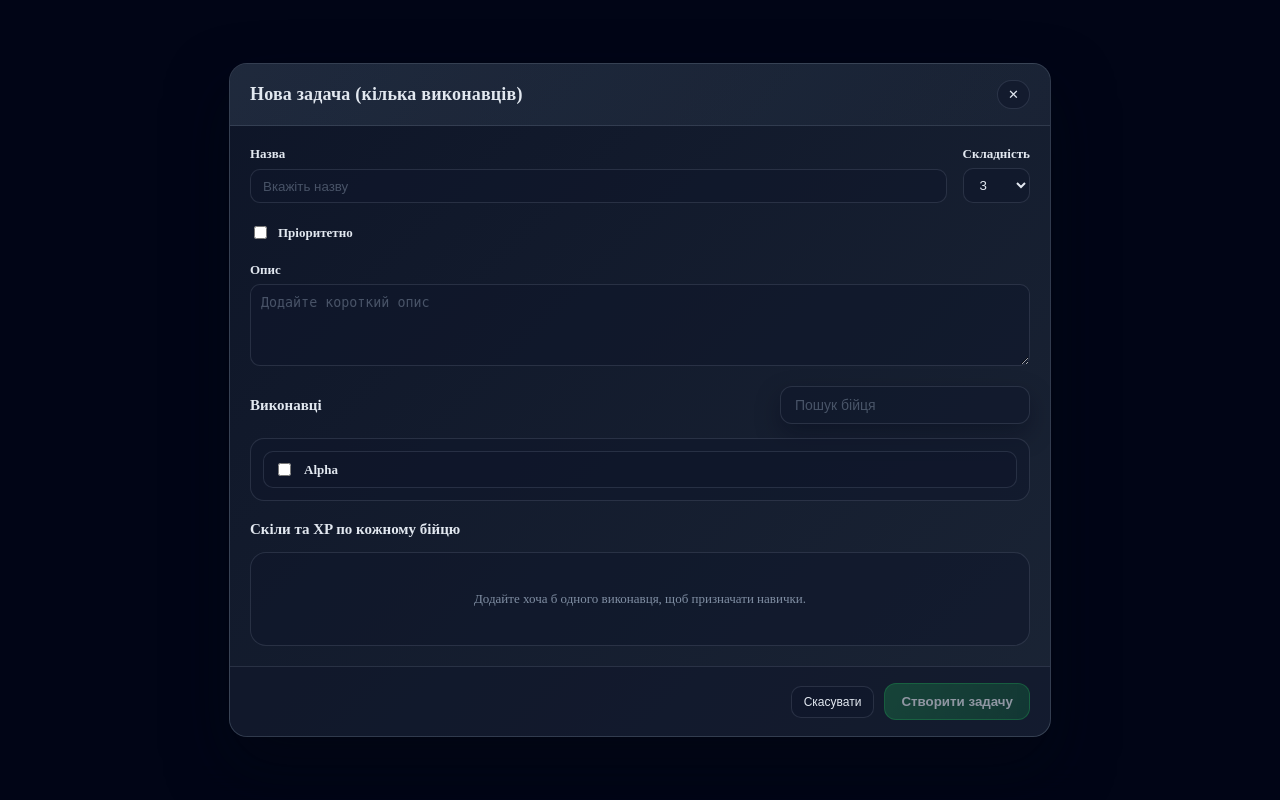
Test: MultiAssignTaskModal › validates assignee selection and submits composed payload
The width and height of the screenshot is (1280, 800).
Expected: the button "Створити задачу" is disabled, [884, 683, 1030, 720]
Type "Патрулювання території" into the field with placeholder "Вкажіть назву". click: [598, 186]
box: [250, 169, 947, 203]
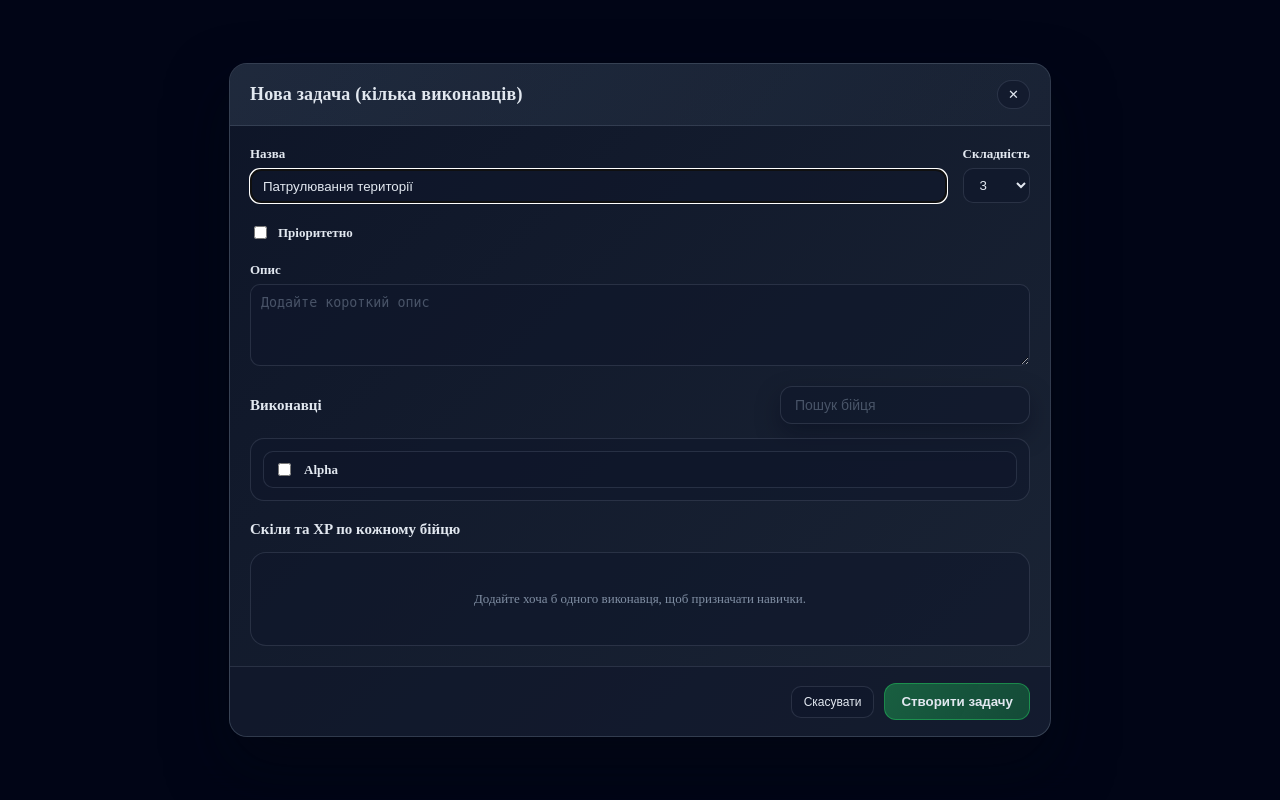
Expected: the button "Створити задачу" is enabled
Click the button "Створити задачу". click: [957, 702]
box: [884, 683, 1030, 720]
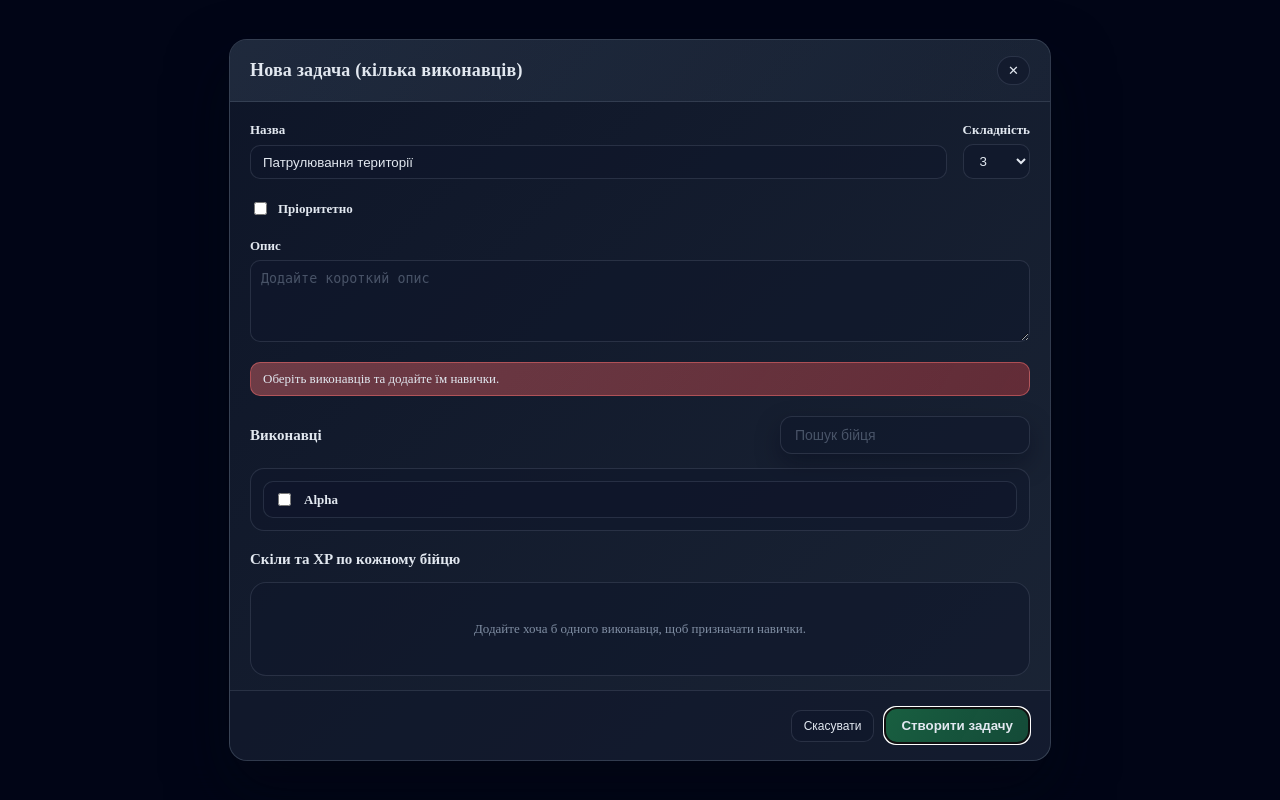
Expected: the text "Оберіть виконавців та додайте їм навички." is shown, [250, 362, 1030, 396]
Click the checkbox labelled "Alpha". click: [284, 500]
box: [278, 493, 291, 506]
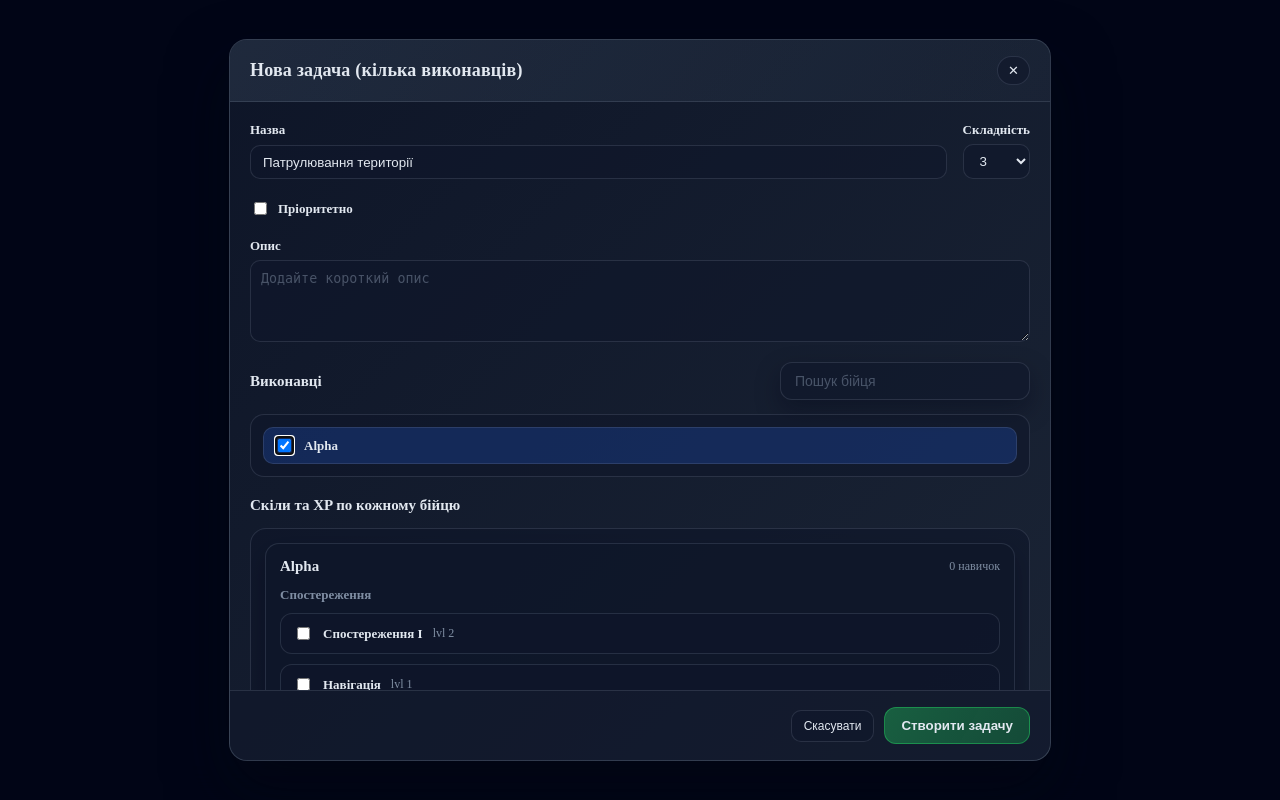
Expected: the checkbox named "Спостереження I" is shown
Click the checkbox named "Спостереження I". click: [304, 634]
box: [297, 627, 310, 640]
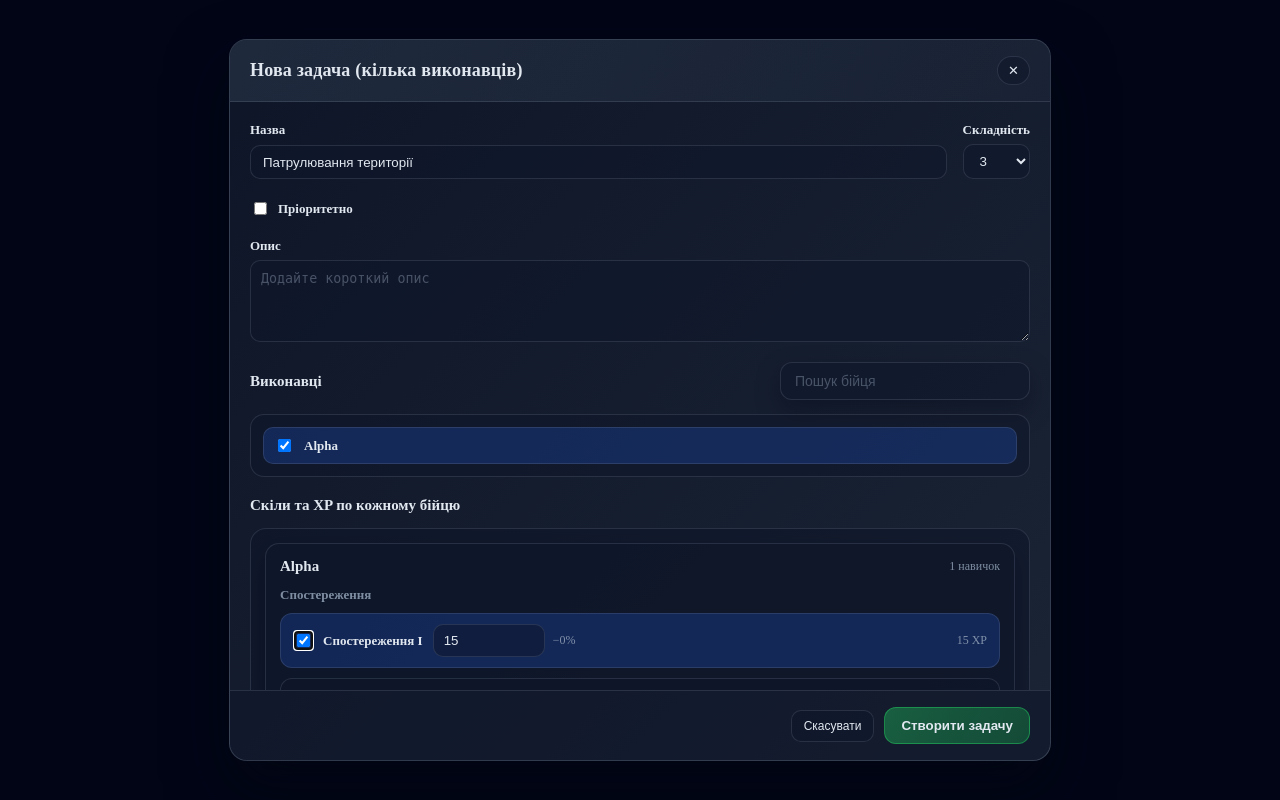
Click the button "Створити задачу". click: [957, 726]
box: [884, 707, 1030, 744]
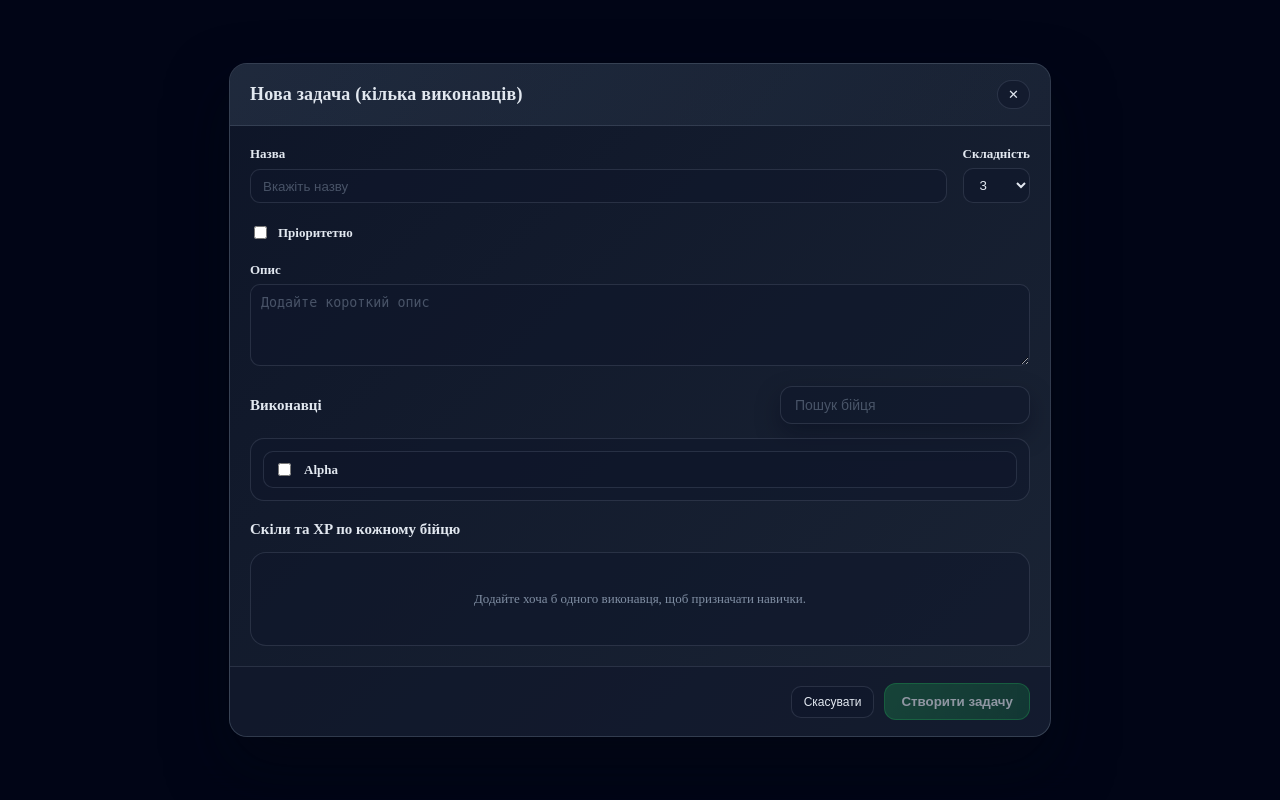
Expected: the text "Оберіть виконавців та додайте їм навички." is not shown
Expected: the field with placeholder "Вкажіть назву" is empty, [250, 169, 947, 203]
Expected: the button "Створити задачу" is disabled, [884, 683, 1030, 720]
